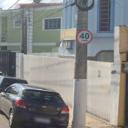speed_limit_40: (75, 28, 93, 44)
